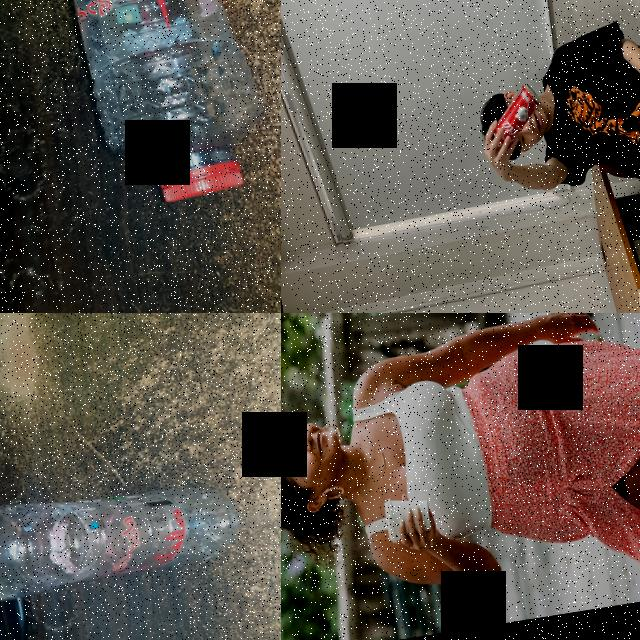bottle: (20, 0, 281, 216), (0, 464, 250, 621)
can: (487, 80, 548, 150)
cup: (379, 490, 434, 543)
